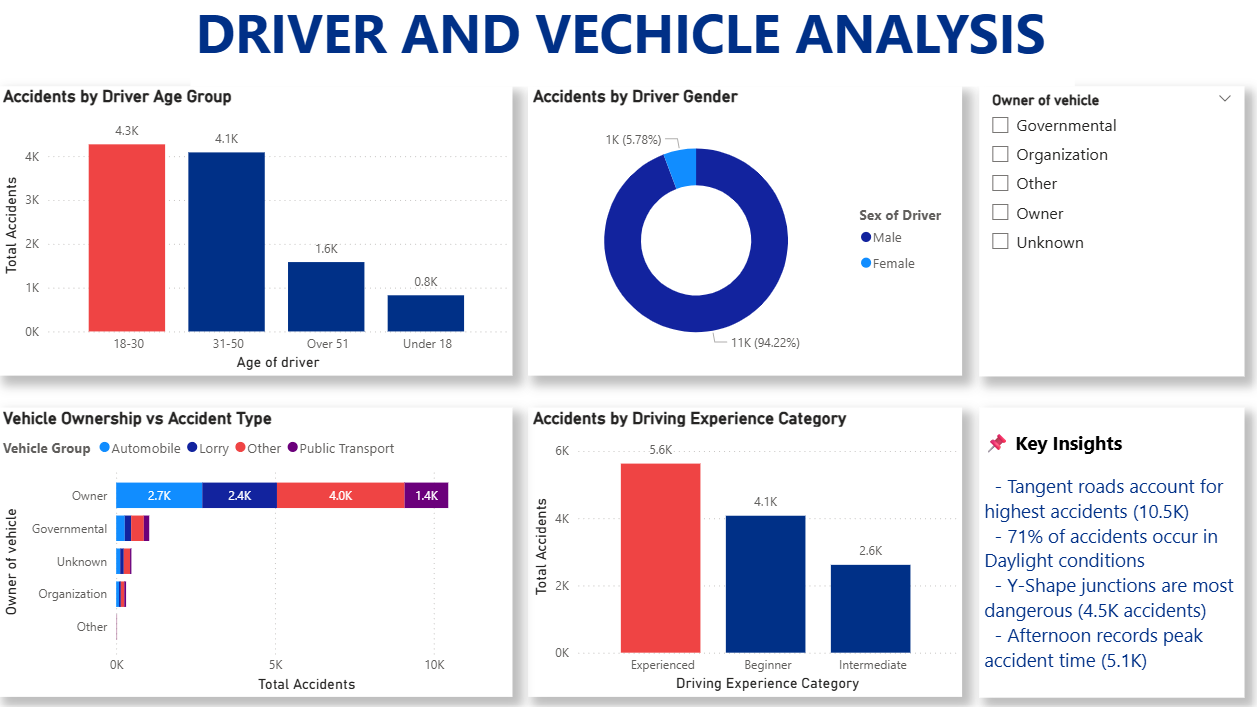

The dashboard page shown, as its layout file describes it:
{"tool":"powerbi","page":{"name":"Driver & Vechicle Analysis","canvas":[1280,720],"ordinal":1},"visuals":[{"type":"columnChart","title":"Accidents by Driver Age Group","fields":{"Category":["RTA POWER BI.Age of driver"],"Y":["Measures (3).Total Accidents"]},"box":[0,96,512,288],"z":0},{"type":"clusteredColumnChart","title":"Accidents by Driving Experience Category","fields":{"Category":["RTA POWER BI.Driving Experience Category"],"Y":["Measures (3).Total Accidents"]},"box":[528,416,432,288],"z":1000},{"type":"donutChart","title":"Accidents by Driver Gender","fields":{"Category":["RTA POWER BI.Sex of Driver"],"Y":["Measures (3).Total Accidents"]},"box":[528,96,432,288],"z":2000},{"type":"barChart","title":"Vehicle Ownership vs Accident Type","fields":{"Category":["RTA POWER BI.Owner of vehicle"],"Y":["Measures (3).Total Accidents"],"Series":["RTA POWER BI.Vehicle Group"]},"box":[0,416,512,288],"z":3000},{"type":"textbox","box":[976.5,415.5,263.7,288.6],"z":4000},{"type":"slicer","fields":{"Values":["RTA POWER BI.Owner of vehicle"]},"box":[976.5,95.8,263.7,288.6],"z":5000},{"type":"textbox","box":[192,0,880,96],"z":6000}]}

Visuals, with their boxes in screenshot pixels (x1, y1, x2, y2), scaled from the page's 1280x720 canvas onto the 1257x707 screenshot:
"Accidents by Driver Age Group" columnChart: rect(0, 94, 503, 377)
"Accidents by Driving Experience Category" clusteredColumnChart: rect(519, 408, 943, 691)
"Accidents by Driver Gender" donutChart: rect(519, 94, 943, 377)
"Vehicle Ownership vs Accident Type" barChart: rect(0, 408, 503, 691)
textbox: rect(959, 408, 1218, 691)
slicer - RTA POWER BI.Owner of vehicle: rect(959, 94, 1218, 377)
textbox: rect(189, 0, 1053, 94)
